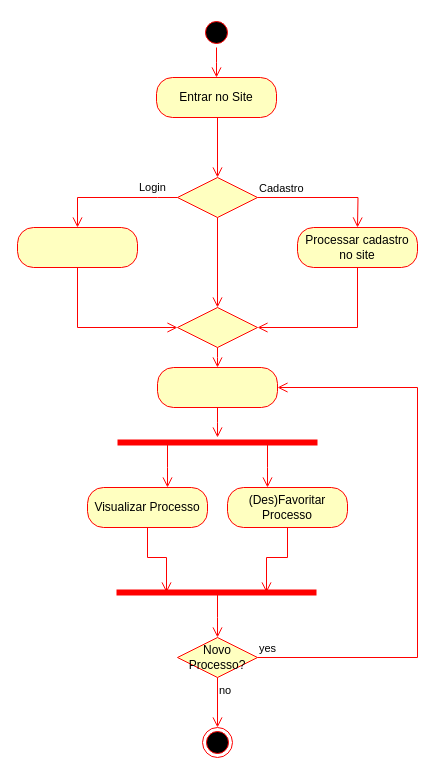
Image size: 445x775. Some labels were removed from this diagram. The box of each missing label's shape, as (x1, y1, x2, y2) in pixels:
Pesquisa Processo: (156, 366, 278, 408)
Processar Login no Site: (16, 226, 138, 268)
